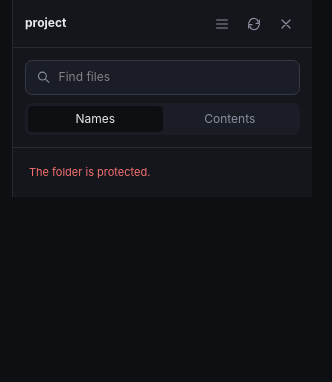
Test: Agent mode project files › shows read failures, refreshes the listing, and explains bounded results
Expected: the message reads "The folder is protected.", [29,165,150,179]
Click the button named "Refresh project files" at (254,24), box [240,10,268,38]
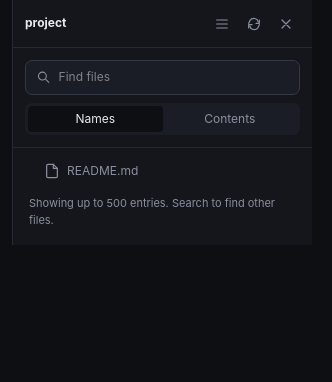
Result: the text "Showing up to 500 entries. Search to find other files." is shown at [29,195,296,229]
Click the button "README.md" at (103,171), box [13,156,312,187]
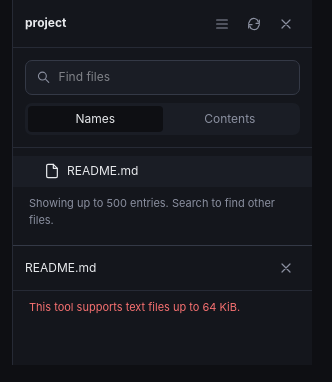
Result: the message shows "64 KiB" at [29,300,240,314]
